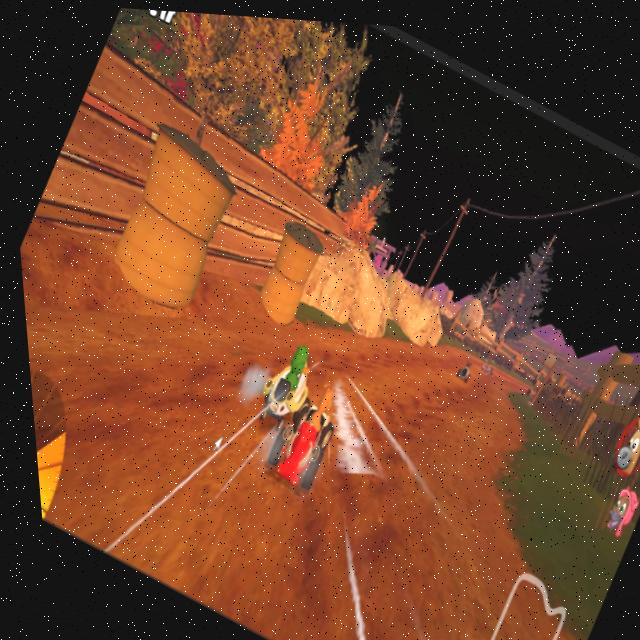enemy_kart: (229, 326, 321, 429), (436, 348, 473, 389)
off_track: (491, 392, 606, 514)
player_kart: (247, 372, 353, 506)
